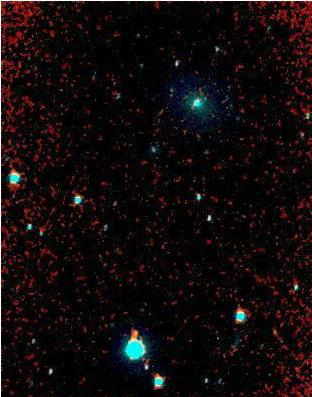star: (120, 322, 150, 352)
